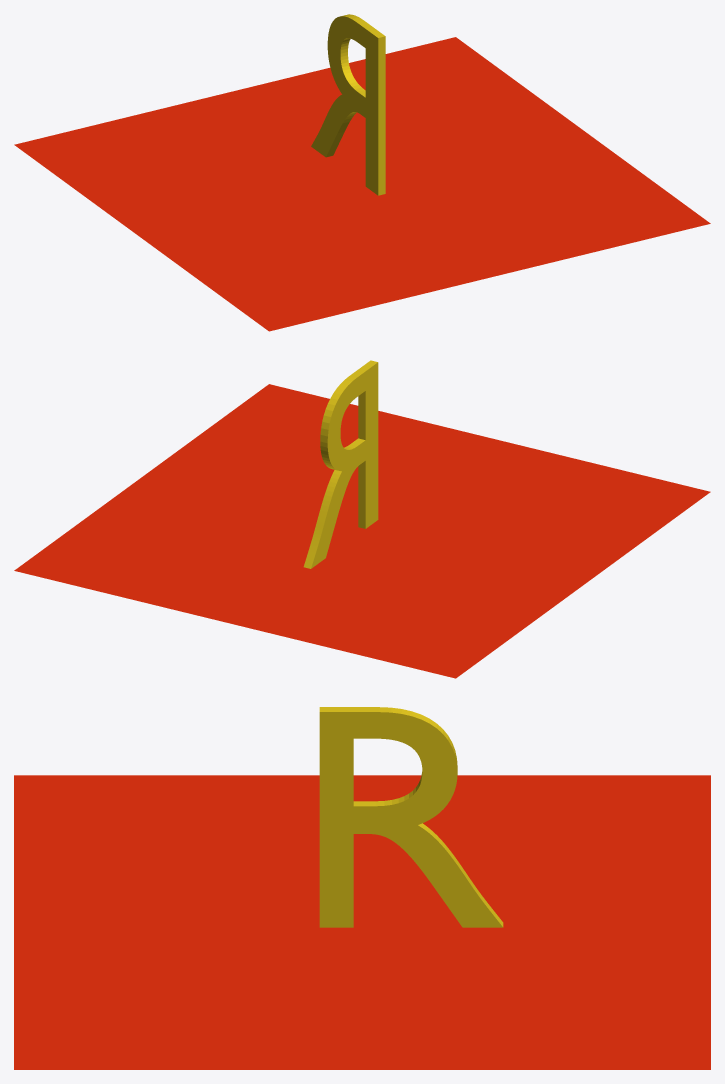
Rendered from restaurant_placeholder.glb.
The picture shows the model from 3 angles, top to bottom: view 1: azimuth 30°, elevation 25°; view 2: azimuth 150°, elevation 25°; view 3: azimuth 270°, elevation 25°; orthographic projection. The views are drawn at different scales.
Parts seen in each view (by area): view 1: Plane; view 2: Plane; view 3: Plane.
Boxes of the visible parts, x1=… form: Plane: x1=14, y1=14, x2=710, y2=331; Plane: x1=14, y1=360, x2=710, y2=678; Plane: x1=14, y1=707, x2=710, y2=1069.
Size of the model in its own units: 20 by 6.82 by 20.
